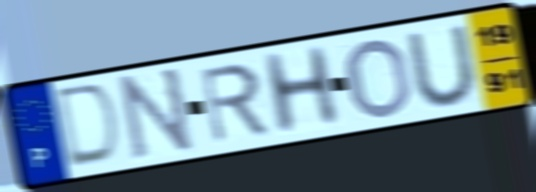D: (55, 80, 123, 172)
H: (257, 42, 344, 140)
N: (118, 64, 196, 163)
O: (344, 36, 415, 121)
R: (196, 60, 273, 147)
U: (402, 21, 483, 108)
